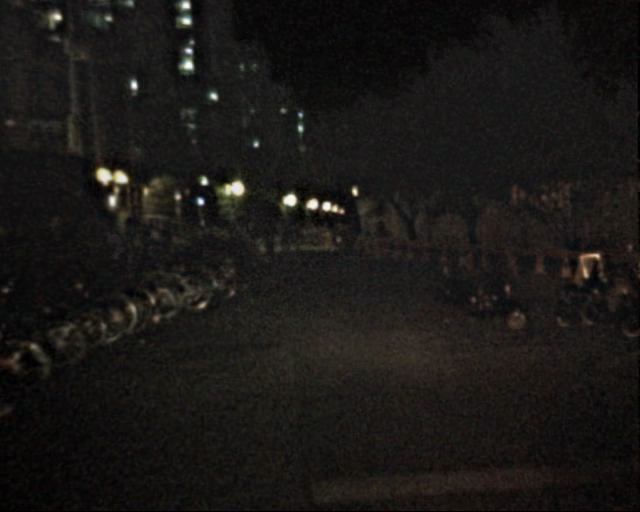person: (227, 219, 258, 248), (139, 218, 157, 262), (106, 227, 124, 270), (156, 221, 174, 264), (277, 220, 294, 261), (260, 221, 276, 261), (375, 220, 390, 256), (291, 223, 306, 244)
